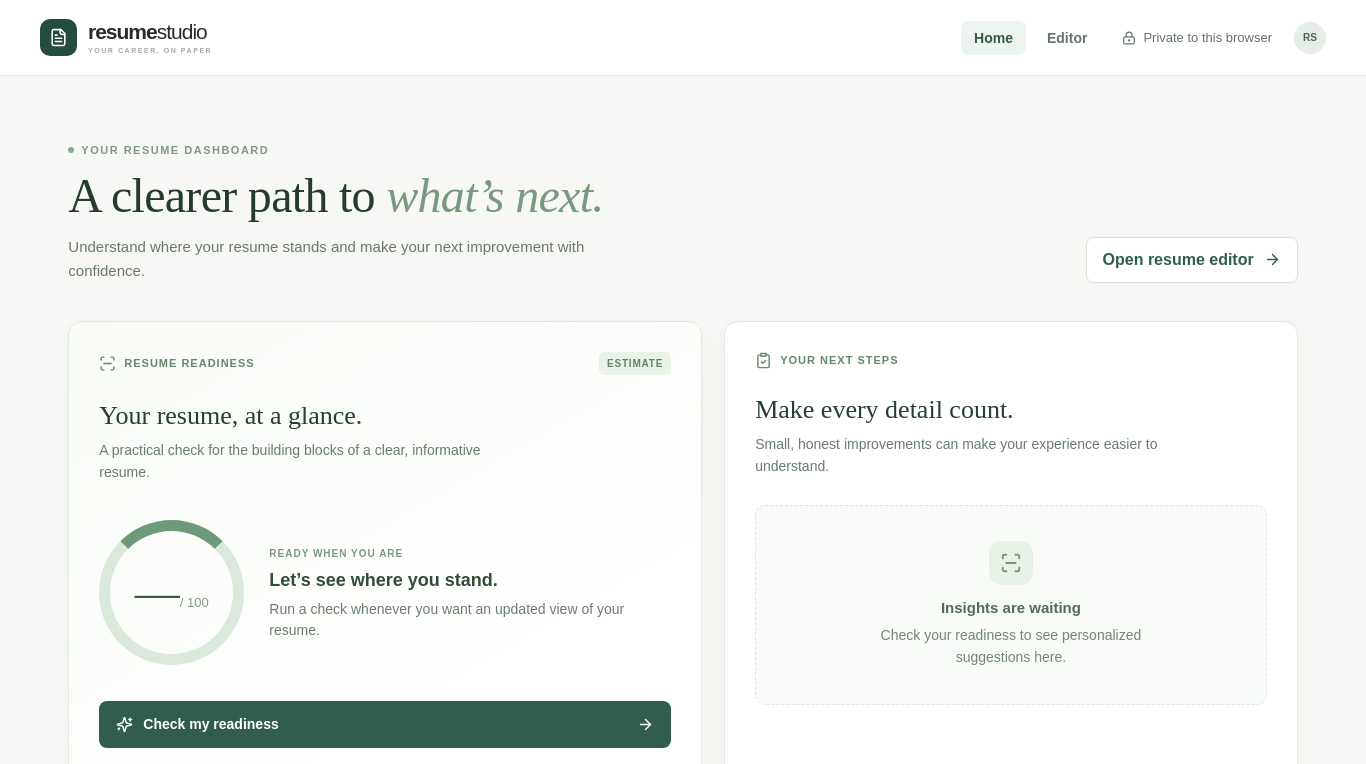
Test: readiness dashboard › shows the all-passed state for a complete resume
This screenshot has width=1366, height=764.
Click the button "Check my readiness" at x=211, y=724, box [99, 701, 671, 748]
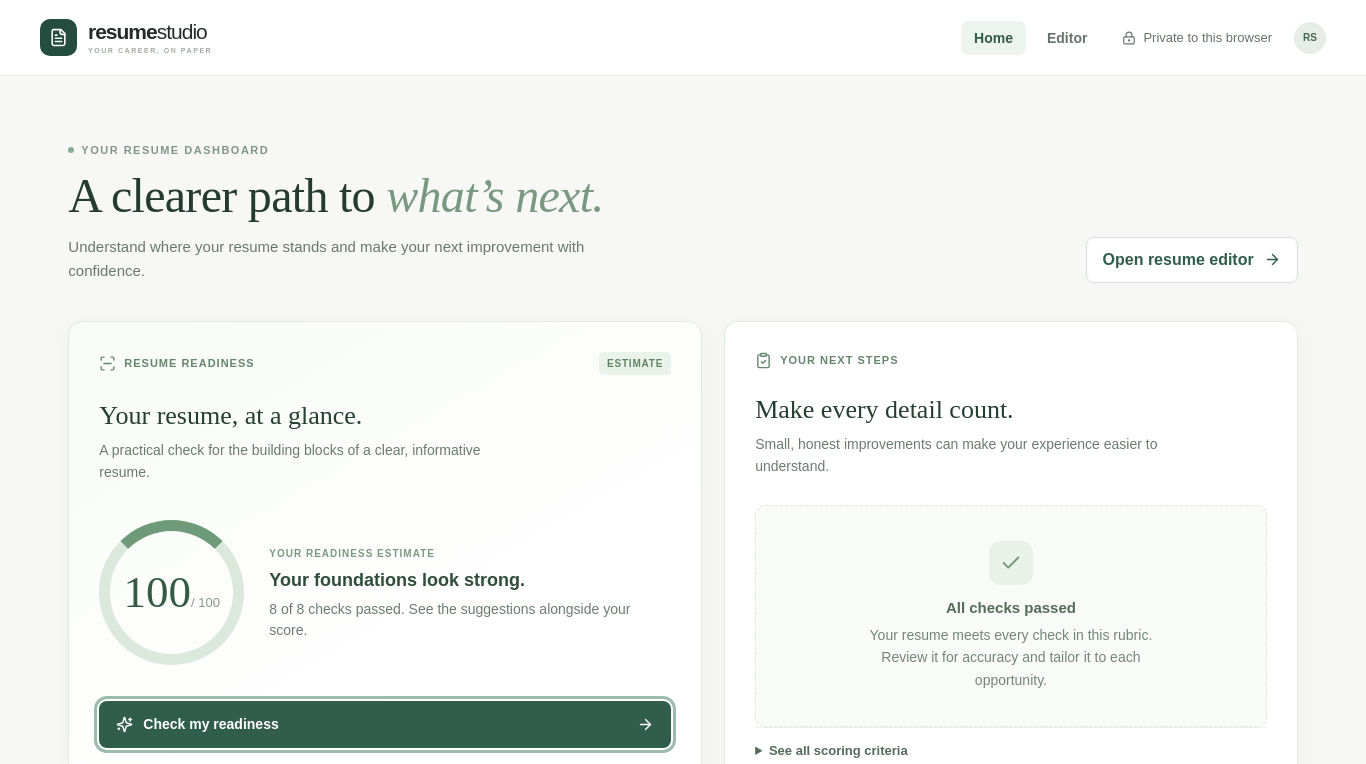
Now the element named "Readiness score 100 out of 100" is shown, box [99, 520, 244, 665]
Now the text "All checks passed" is shown, box [946, 599, 1076, 616]
